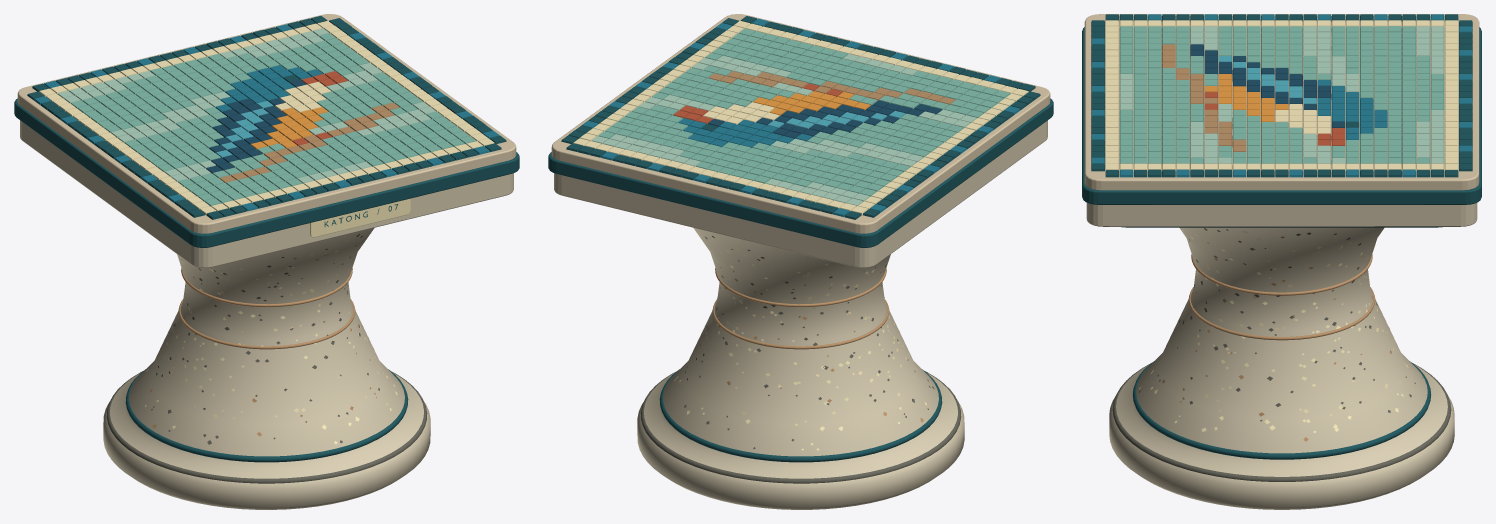
3 renders of one model, left to right at view 1: azimuth 30°, elevation 25°; view 2: azimuth 150°, elevation 25°; view 3: azimuth 270°, elevation 25°, orthographic. The views are drawn at different scales.
Visible parts, largest first — view 1: Cast pedestal, Kingfisher tesserae, Mosaic slab; view 2: Cast pedestal, Kingfisher tesserae, Mosaic slab; view 3: Cast pedestal, Kingfisher tesserae, Mosaic slab.
Part boxes in pixels (x1=…): Cast pedestal: x1=103, y1=228, x2=430, y2=509; Kingfisher tesserae: x1=27, y1=16, x2=506, y2=219; Mosaic slab: x1=14, y1=14, x2=519, y2=267; Cast pedestal: x1=637, y1=228, x2=964, y2=509; Kingfisher tesserae: x1=561, y1=16, x2=1040, y2=219; Mosaic slab: x1=548, y1=14, x2=1053, y2=267; Cast pedestal: x1=1109, y1=227, x2=1454, y2=509; Kingfisher tesserae: x1=1091, y1=14, x2=1472, y2=177; Mosaic slab: x1=1082, y1=14, x2=1481, y2=227.
Size of the model in its own units: 0.458 by 0.4367 by 0.458.
